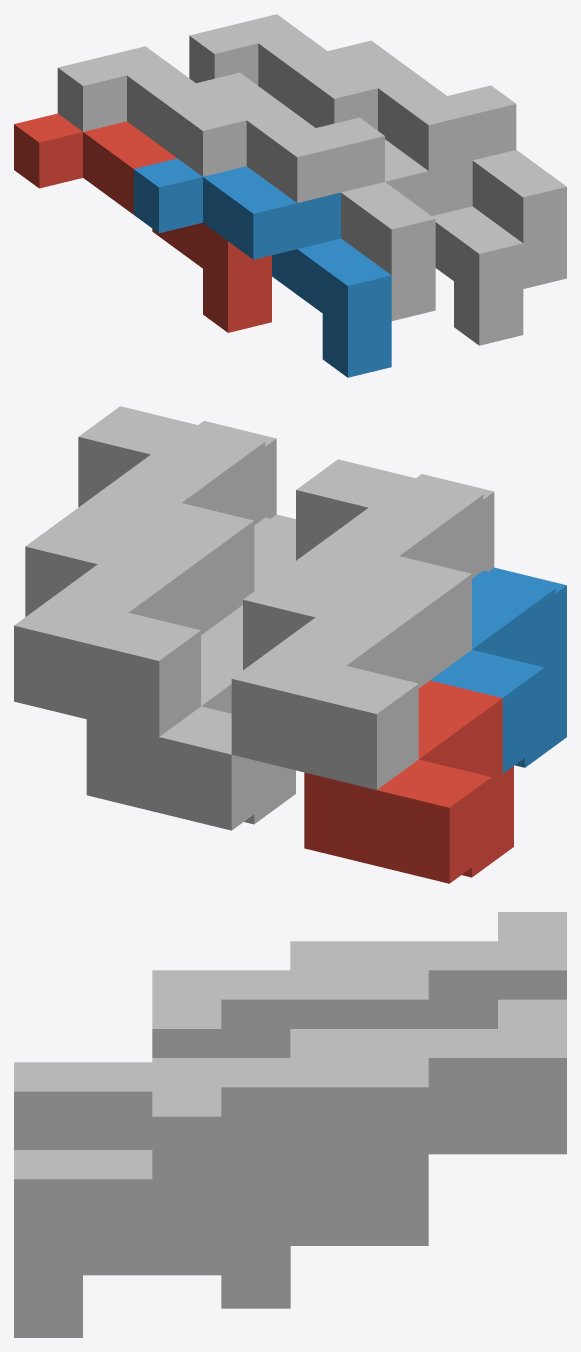
The model's file is tiling.obj.
3 renders of one model, top to bottom at view 1: azimuth 30°, elevation 25°; view 2: azimuth 150°, elevation 25°; view 3: azimuth 270°, elevation 25°, orthographic. The views are drawn at different scales.
Parts seen in each view (by area): view 1: copy_1_domain_4, copy_1_domain_2, copy_1_domain_8, copy_1_domain_1, copy_1_domain_6, copy_1_domain_3, copy_1_domain_7; view 2: copy_1_domain_7, copy_1_domain_3, copy_1_domain_1, copy_1_domain_8, copy_1_domain_4, copy_1_domain_5, copy_1_domain_2, copy_1_domain_6; view 3: copy_1_domain_8, copy_1_domain_7, copy_1_domain_4, copy_1_domain_3, copy_1_domain_5, copy_1_domain_6.
Boxes of the visible parts, x1=… form: copy_1_domain_4: x1=177, y1=91, x2=435, y2=320; copy_1_domain_2: x1=133, y1=158, x2=391, y2=377; copy_1_domain_8: x1=309, y1=59, x2=566, y2=288; copy_1_domain_1: x1=14, y1=113, x2=271, y2=332; copy_1_domain_6: x1=385, y1=139, x2=523, y2=345; copy_1_domain_3: x1=57, y1=46, x2=264, y2=157; copy_1_domain_7: x1=189, y1=14, x2=395, y2=122; copy_1_domain_7: x1=14, y1=516, x2=212, y2=736; copy_1_domain_3: x1=231, y1=569, x2=429, y2=789; copy_1_domain_1: x1=304, y1=680, x2=513, y2=883; copy_1_domain_8: x1=67, y1=406, x2=276, y2=626; copy_1_domain_4: x1=285, y1=459, x2=494, y2=679; copy_1_domain_5: x1=86, y1=627, x2=295, y2=830; copy_1_domain_2: x1=430, y1=567, x2=566, y2=773; copy_1_domain_6: x1=212, y1=514, x2=295, y2=634; copy_1_domain_8: x1=14, y1=1029, x2=359, y2=1304; copy_1_domain_7: x1=221, y1=999, x2=566, y2=1275; copy_1_domain_4: x1=14, y1=941, x2=359, y2=1149; copy_1_domain_3: x1=359, y1=912, x2=566, y2=1028; copy_1_domain_5: x1=221, y1=1120, x2=566, y2=1308; copy_1_domain_6: x1=14, y1=1242, x2=221, y2=1337.
Bounding box in the file's own units: 8 × 4 × 8.
